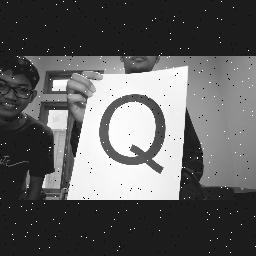q: (96, 92, 172, 176)
